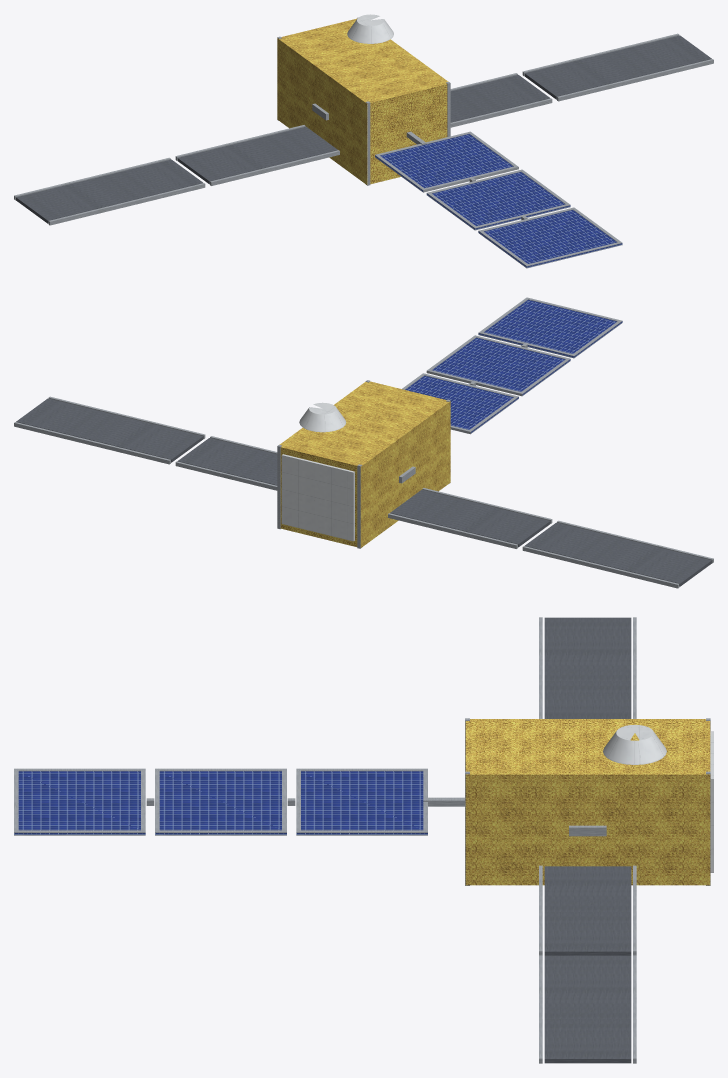
Rendered from sar.glb.
3 renders of one model, top to bottom at view 1: azimuth 30°, elevation 25°; view 2: azimuth 150°, elevation 25°; view 3: azimuth 270°, elevation 25°, orthographic. The views are drawn at different scales.
Size of the model in its own units: 11.1 by 1.83 by 7.44.
Materials: 5 (5 with a texture image).
